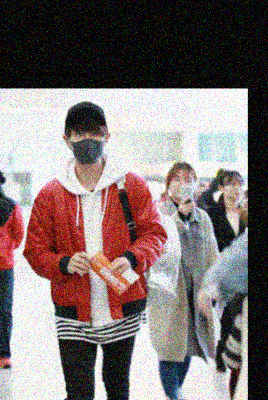with_mask: (70, 129, 105, 164)
without_mask: (172, 174, 193, 200), (224, 178, 244, 200)
